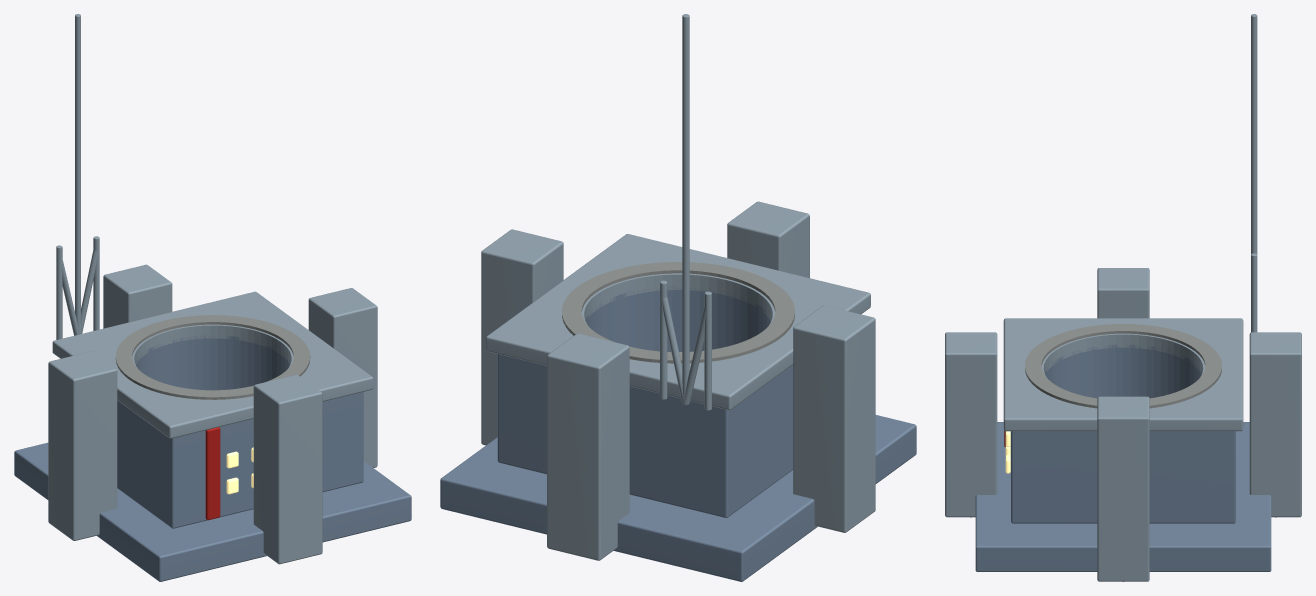
3 views of the same model, side by side, from view 1: azimuth 30°, elevation 25°; view 2: azimuth 150°, elevation 25°; view 3: azimuth 270°, elevation 25° (orthographic). The views are drawn at different scales.
Parts seen in each view (by area): view 1: Modular block storey, Foundation slab, Block roof ledge, Block buttress.003, Block buttress.002, Block buttress, Permanently exposed roof well, Block buttress.001, Aerial stem, Vertical block colour strip, Aerial fork tine, Aerial fork tine.001 (+1 smaller); view 2: Modular block storey, Foundation slab, Block roof ledge, Block buttress.001, Block buttress.002, Block buttress, Permanently exposed roof well, Block buttress.003, Aerial stem, Aerial fork tine, Aerial fork tine.001, Aerial fork.001 (+1 smaller); view 3: Modular block storey, Foundation slab, Block roof ledge, Block buttress, Block buttress.001, Block buttress.003, Permanently exposed roof well, Block buttress.002, Aerial stem, Aerial fork tine.001.
Part boxes in pixels (box(x1,y1,x2,y2)): Modular block storey: box(117, 335, 363, 528); Foundation slab: box(14, 442, 411, 581); Block roof ledge: box(52, 291, 373, 438); Block buttress.003: box(253, 374, 322, 564); Block buttress.002: box(48, 351, 117, 540); Block buttress: box(308, 288, 377, 467); Permanently exposed roof well: box(115, 315, 310, 399); Block buttress.001: box(103, 264, 172, 328); Aerial stem: box(75, 14, 80, 334); Vertical block colour strip: box(205, 427, 220, 520); Aerial fork tine: box(56, 245, 62, 339); Aerial fork tine.001: box(93, 236, 99, 330); Modular block storey: box(497, 286, 793, 517); Foundation slab: box(440, 415, 916, 581); Block roof ledge: box(486, 234, 870, 410); Block buttress.001: box(547, 333, 629, 560); Block buttress.002: box(793, 305, 875, 532); Block buttress: box(481, 229, 563, 445); Permanently exposed roof well: box(562, 262, 794, 363); Block buttress.003: box(727, 201, 809, 277); Aerial stem: box(682, 14, 689, 405); Aerial fork tine: box(704, 291, 711, 410); Aerial fork tine.001: box(660, 280, 667, 399); Aerial fork.001: box(662, 297, 683, 403); Modular block storey: box(1011, 344, 1235, 523); Foundation slab: box(975, 422, 1271, 571); Block roof ledge: box(1003, 318, 1243, 431); Block buttress: box(1097, 396, 1149, 581); Block buttress.001: box(1249, 332, 1301, 517); Block buttress.003: box(945, 332, 997, 517); Permanently exposed roof well: box(1025, 324, 1221, 408); Block buttress.002: box(1097, 268, 1149, 318); Aerial stem: box(1251, 14, 1257, 331); Aerial fork tine.001: box(1251, 253, 1256, 332).
Size of the model in its own units: 2.46 by 3.5 by 2.46.
